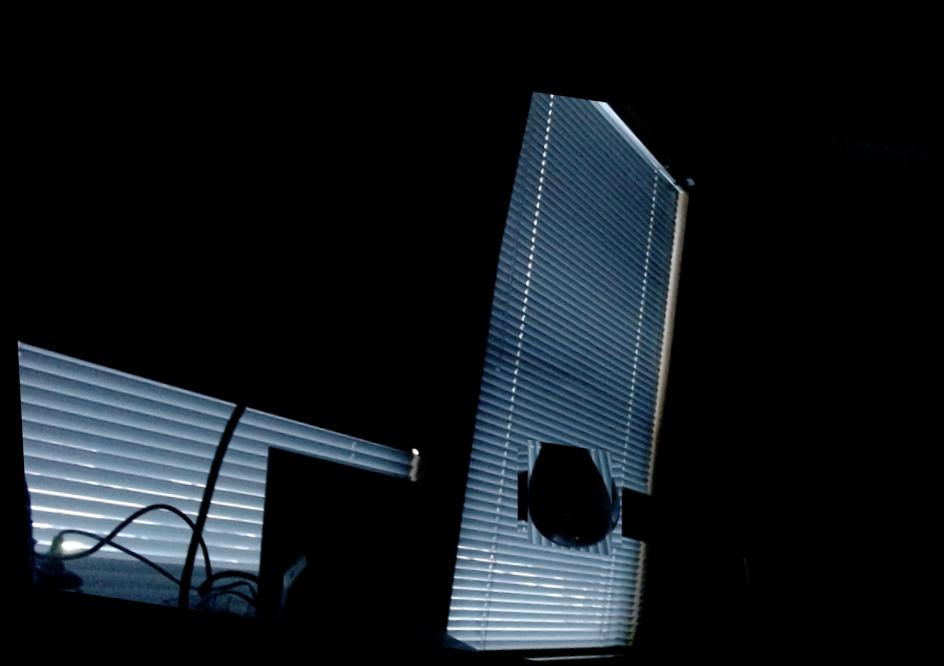Fan: (513, 433, 616, 541)
